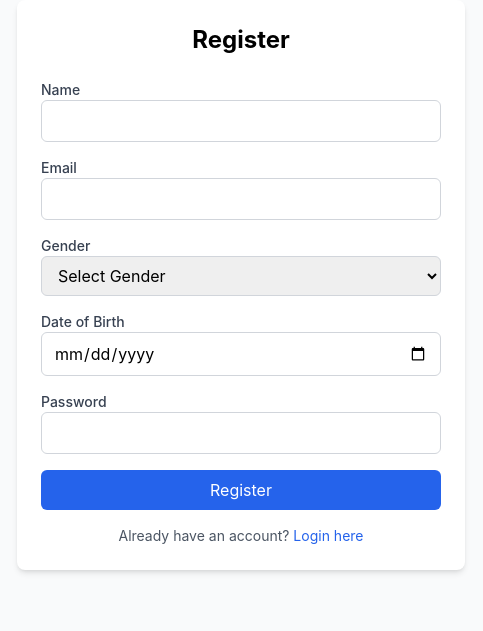
Test case: Register Component › form validation › shows error when date of birth is missing
Type "John Doe" into the field labelled "Name".
click(241, 121); type("John Doe")  # box x1=41 y1=100 x2=441 y2=142
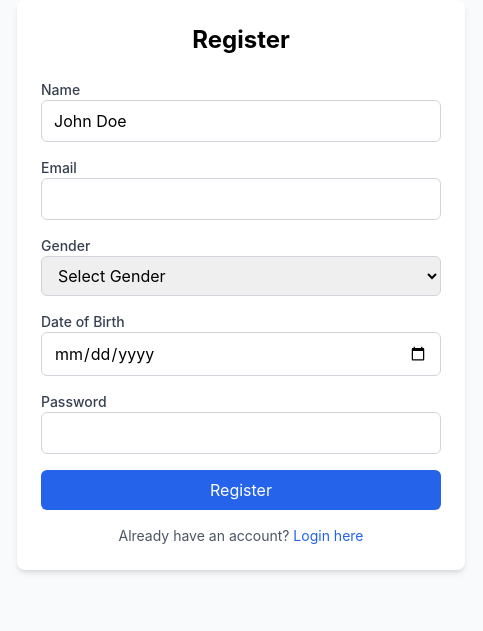
Type "john@example.com" into the field labelled "Email".
click(241, 199); type("john@example.com")  # box x1=41 y1=178 x2=441 y2=220
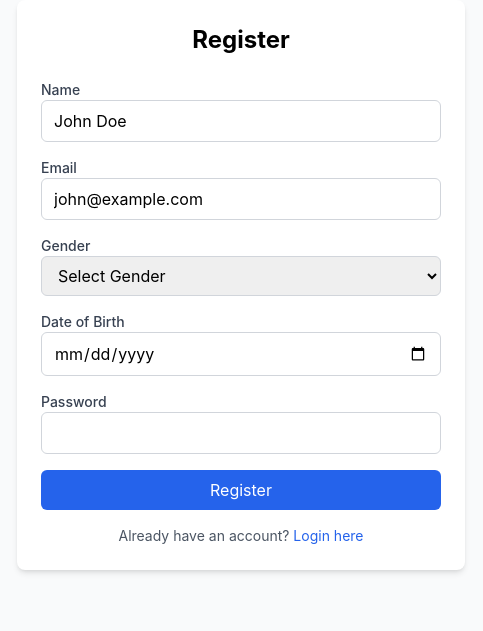
Select "Male" in the dropdown labelled "Gender" at [241, 276], box x1=41 y1=256 x2=441 y2=296
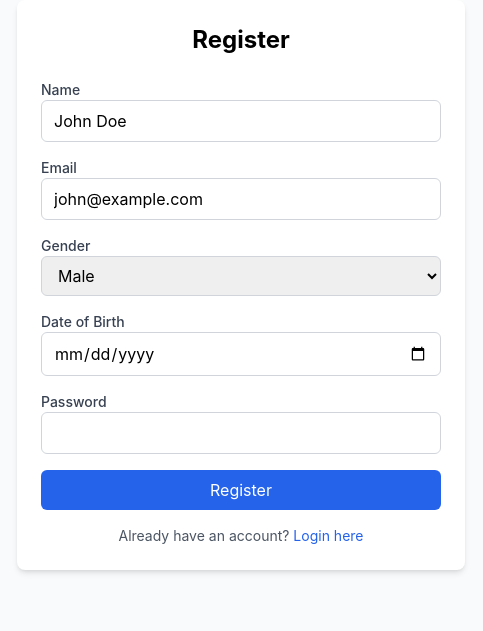
Click the button "Register".
click(241, 490)  # box x1=41 y1=470 x2=441 y2=510
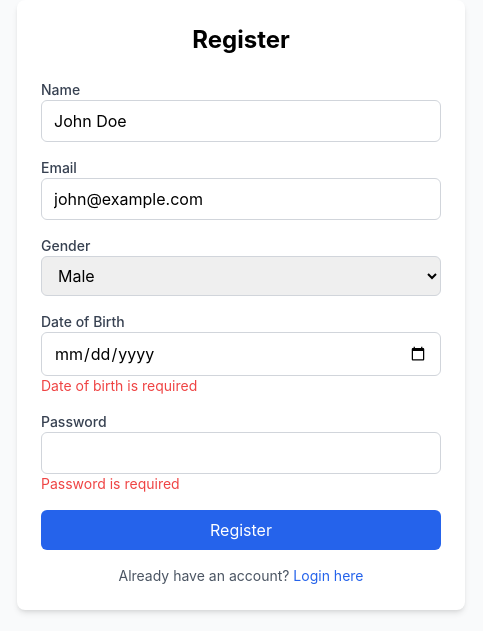
Check: the text "Date of birth is required" is shown, box x1=41 y1=377 x2=197 y2=394
